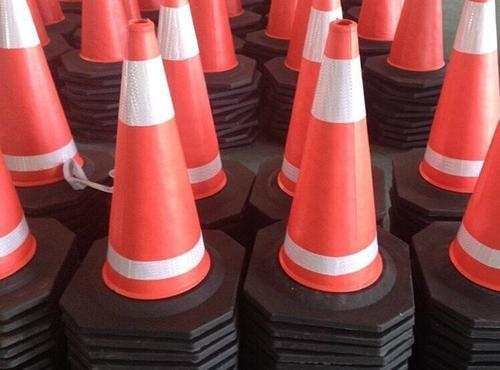cone_barrel: (94, 16, 209, 308), (276, 17, 393, 294), (414, 0, 497, 197), (1, 0, 81, 185), (158, 1, 227, 196), (450, 118, 499, 292), (383, 0, 447, 75), (185, 1, 245, 75), (76, 0, 133, 63)
